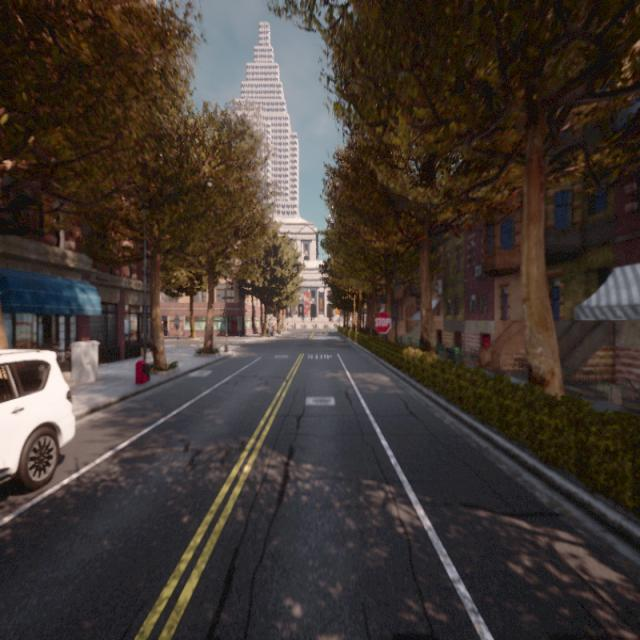stop sign: (372, 308, 393, 336)
